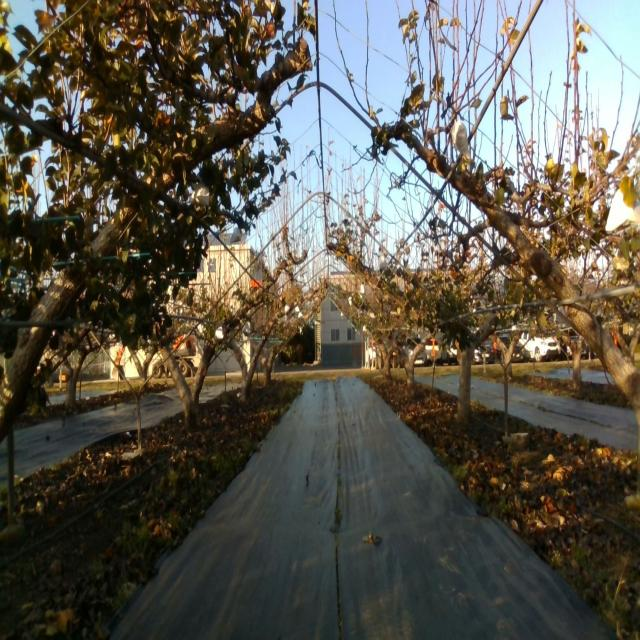pearbags: (605, 188, 640, 234), (187, 175, 210, 208), (452, 121, 471, 159)
